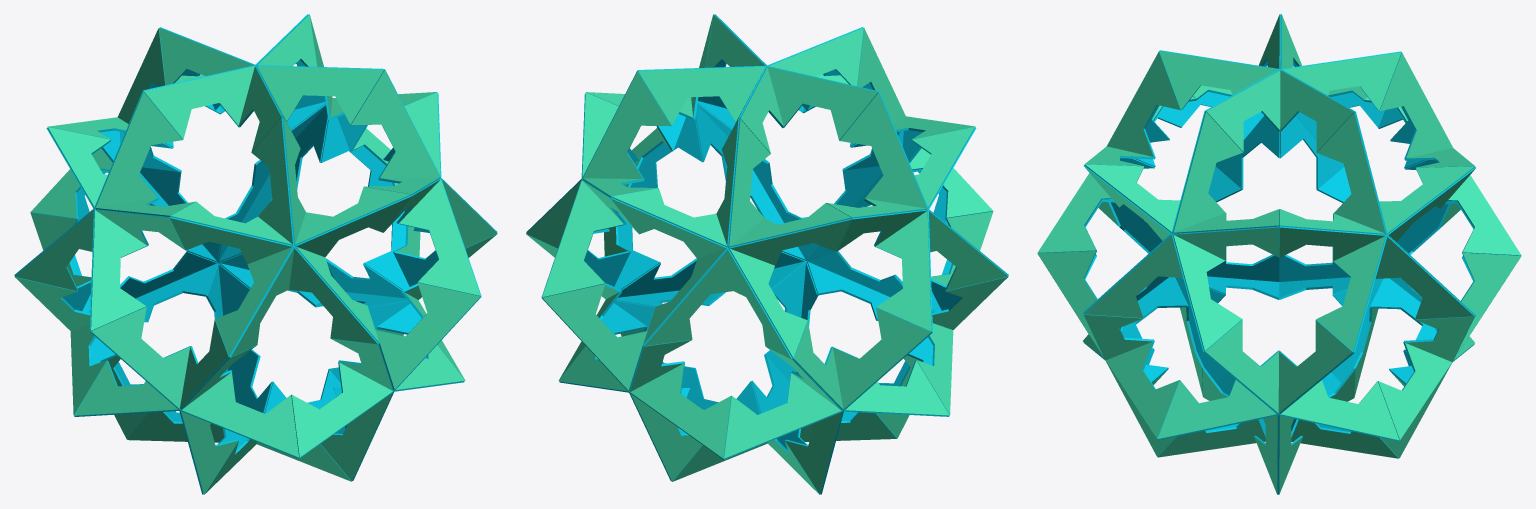
The model's file is Mobius120aS.glb.
3 renders of one model, left to right at view 1: azimuth 30°, elevation 25°; view 2: azimuth 150°, elevation 25°; view 3: azimuth 270°, elevation 25°, orthographic.
Parts seen in each view (by area): view 1: Mesh_0001_1, Mesh_0001; view 2: Mesh_0001_1, Mesh_0001; view 3: Mesh_0001_1, Mesh_0001.
Part boxes in pixels (box(x1,y1,x2,y2)): Mesh_0001_1: box(15, 14, 497, 494); Mesh_0001: box(14, 14, 497, 494); Mesh_0001_1: box(526, 14, 1008, 494); Mesh_0001: box(526, 14, 1008, 494); Mesh_0001_1: box(1037, 14, 1521, 494); Mesh_0001: box(1038, 14, 1521, 494).
Bounding box in the file's own units: 10.15 × 9.09 × 10.65.
